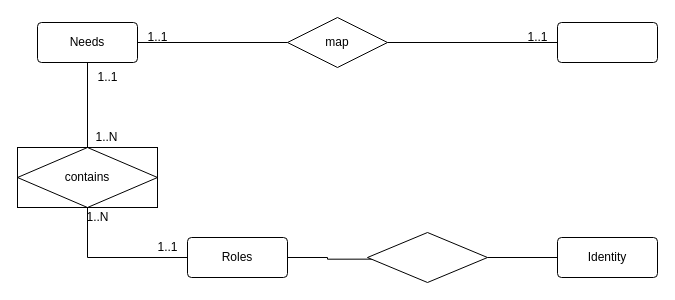
This 675x300 diagram has some shape labels left out. Here are the shapes that lost their labels. From the top down, the centre of each, then its label:
At pixel 607 42: "Activity".
At pixel 427 257: "assigned to".
